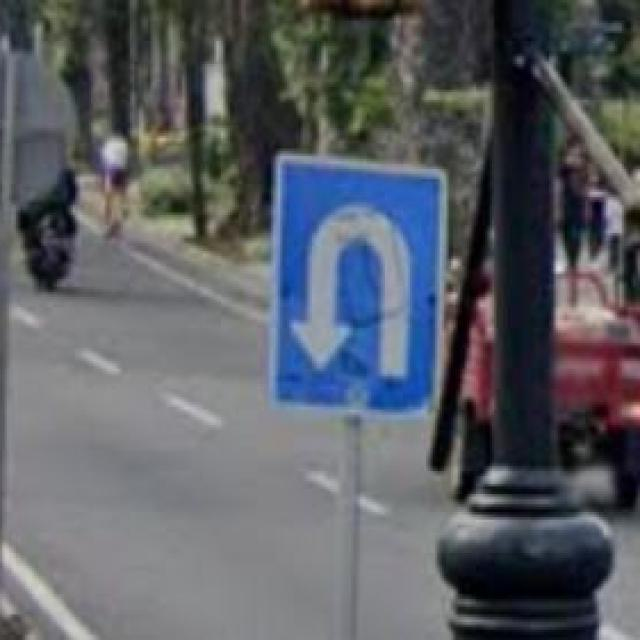U-turn: (278, 160, 430, 409)
